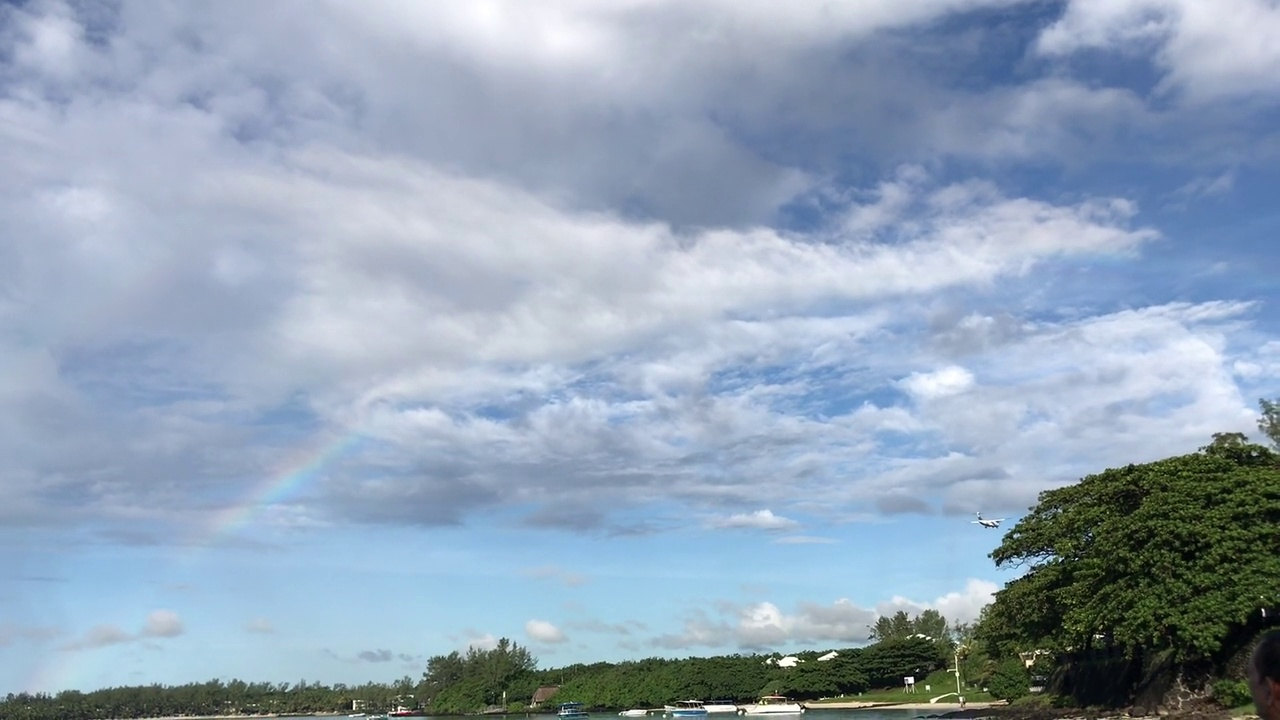plane: (967, 510, 1010, 528)
